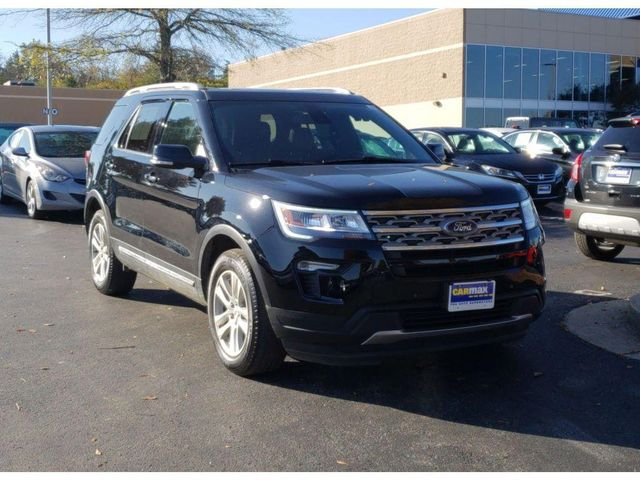Ford Explorer: (84, 82, 547, 377)
